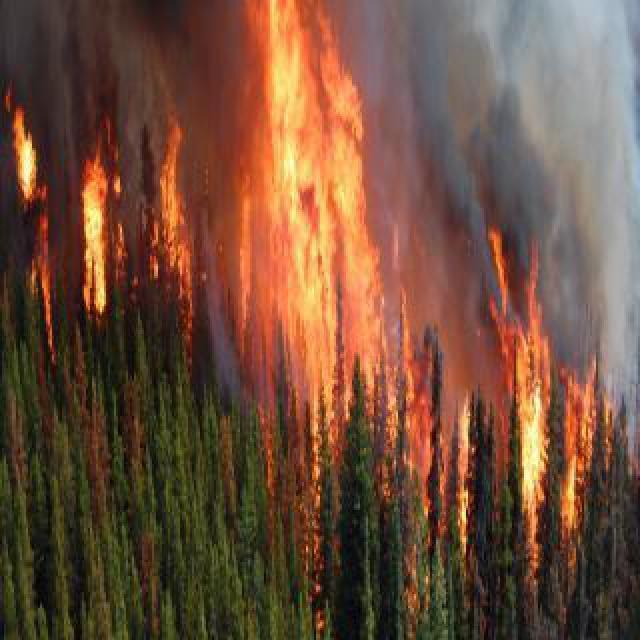Fire: (238, 6, 384, 408), (494, 234, 622, 566), (386, 346, 474, 544), (6, 52, 54, 314), (142, 94, 196, 306), (80, 100, 122, 314)
Smoke: (194, 194, 236, 434)
